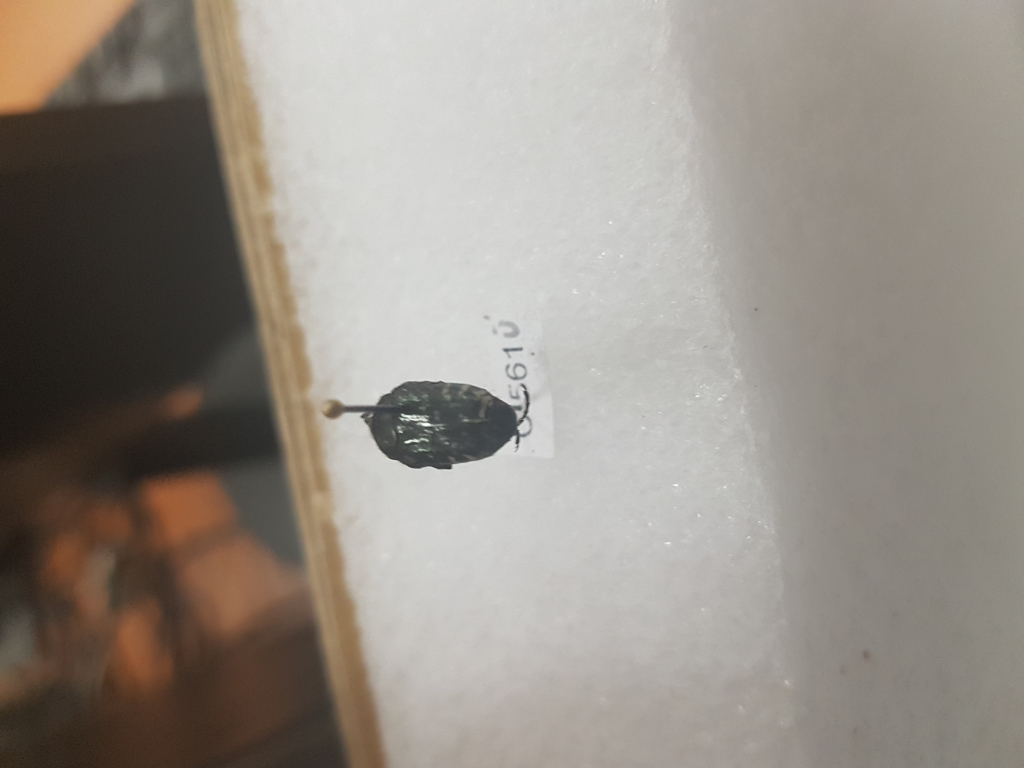Oxythyrea_albopicta: (354, 378, 543, 490)
